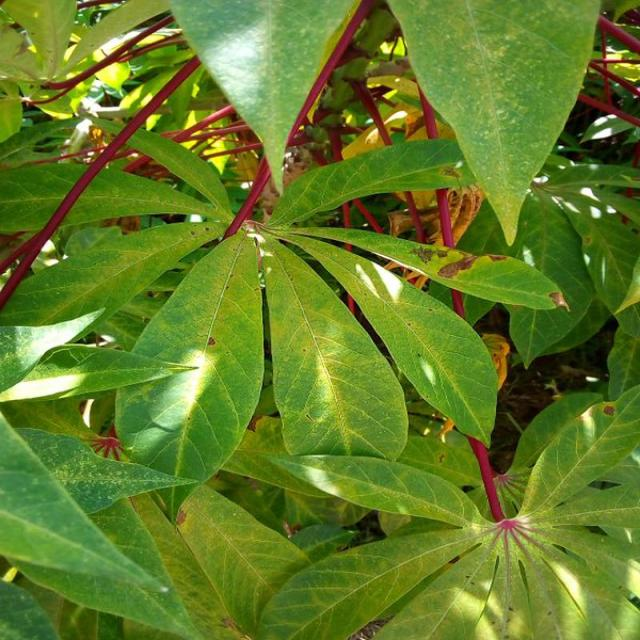Mosaico: (320, 234, 582, 313)
